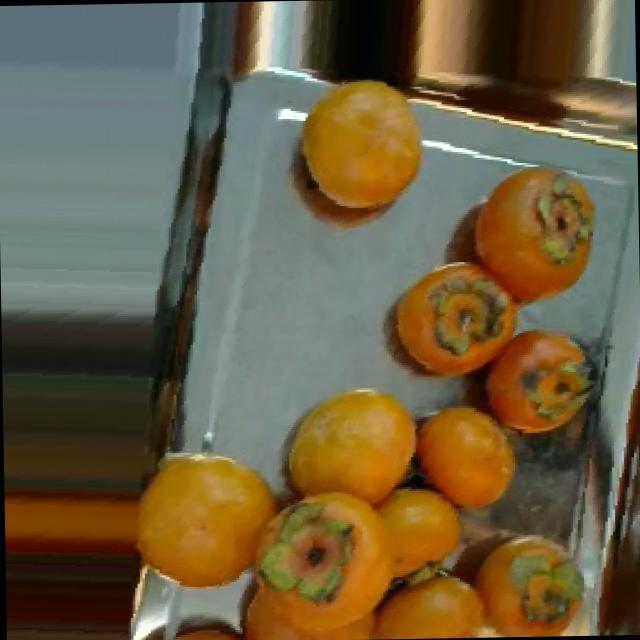Fruit: (403, 134, 622, 328), (101, 426, 308, 612), (268, 50, 450, 247), (358, 238, 542, 401), (259, 370, 438, 529), (459, 311, 610, 452), (388, 384, 534, 522)
